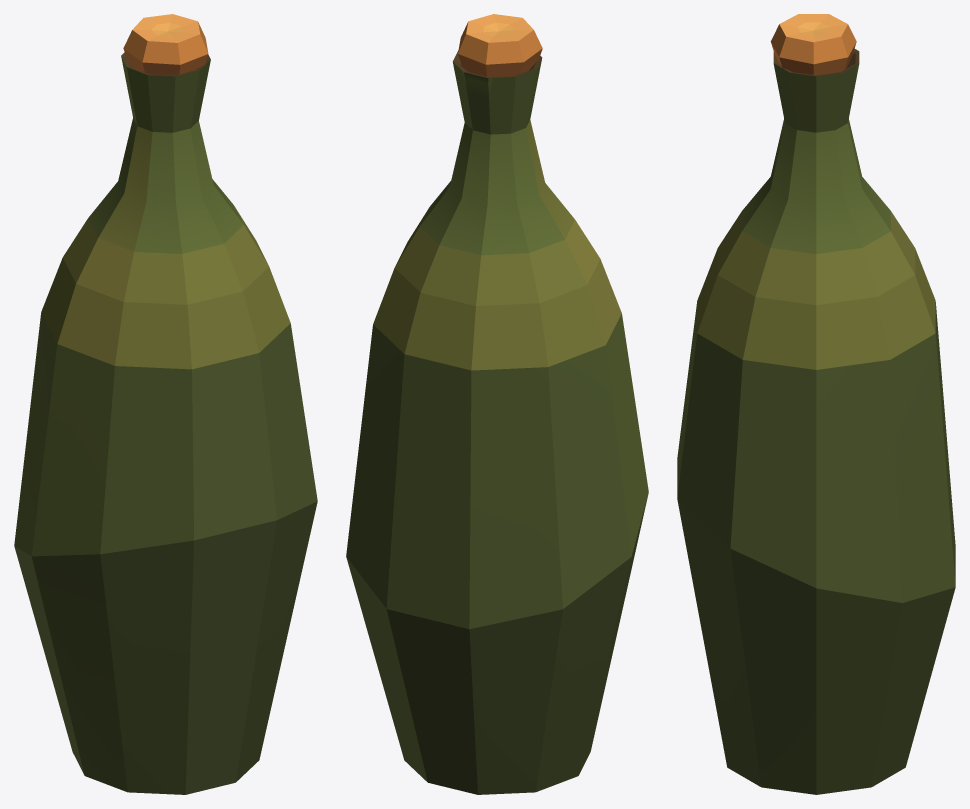
The model's file is bottle_II.fbx.
3 views of the same model, side by side, from view 1: azimuth 30°, elevation 25°; view 2: azimuth 150°, elevation 25°; view 3: azimuth 270°, elevation 25° (orthographic).
Visible parts, largest first — view 1: bottle; view 2: bottle; view 3: bottle.
Boxes of the visible parts, left/top/right/bottom form: bottle: left=14, top=14, right=317, bottom=794; bottle: left=346, top=14, right=648, bottom=794; bottle: left=677, top=14, right=955, bottom=794.
Size of the model in its own units: 9.99 by 25.87 by 8.97.
